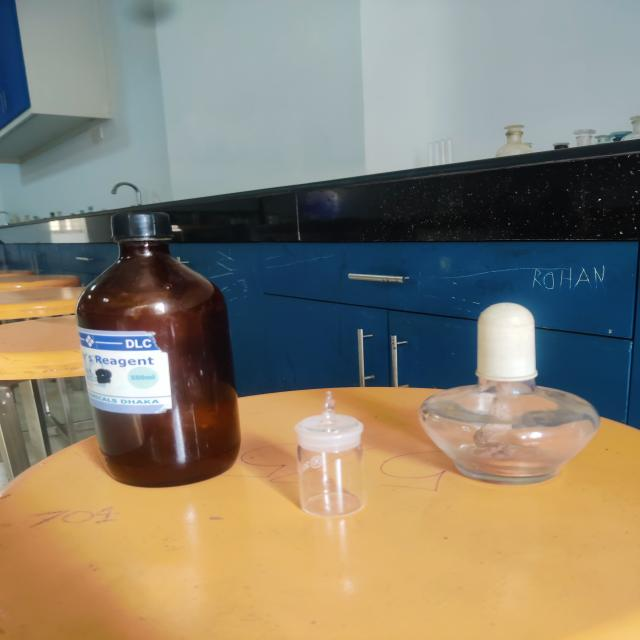Nessler_Reagent_Bottle: (38, 170, 260, 522)
Spirit_Lamp: (399, 301, 620, 509)
Weighing_Bottle: (265, 370, 388, 542)
